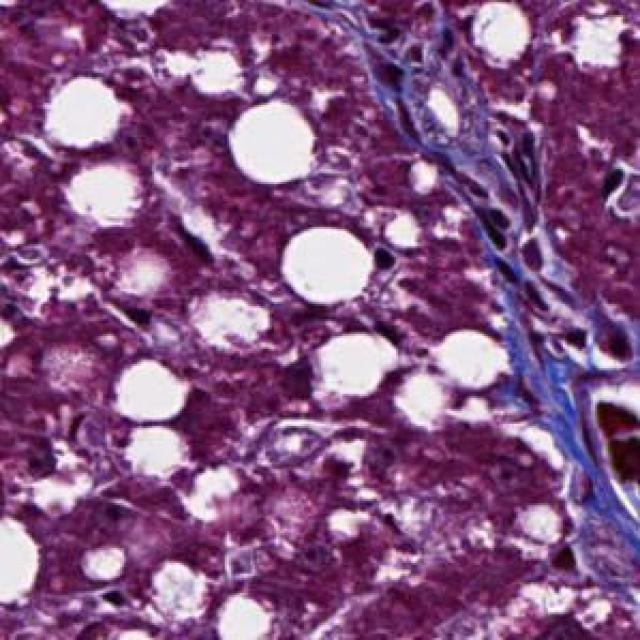steatosis: (227, 94, 321, 191), (282, 227, 374, 302), (47, 73, 120, 150)
